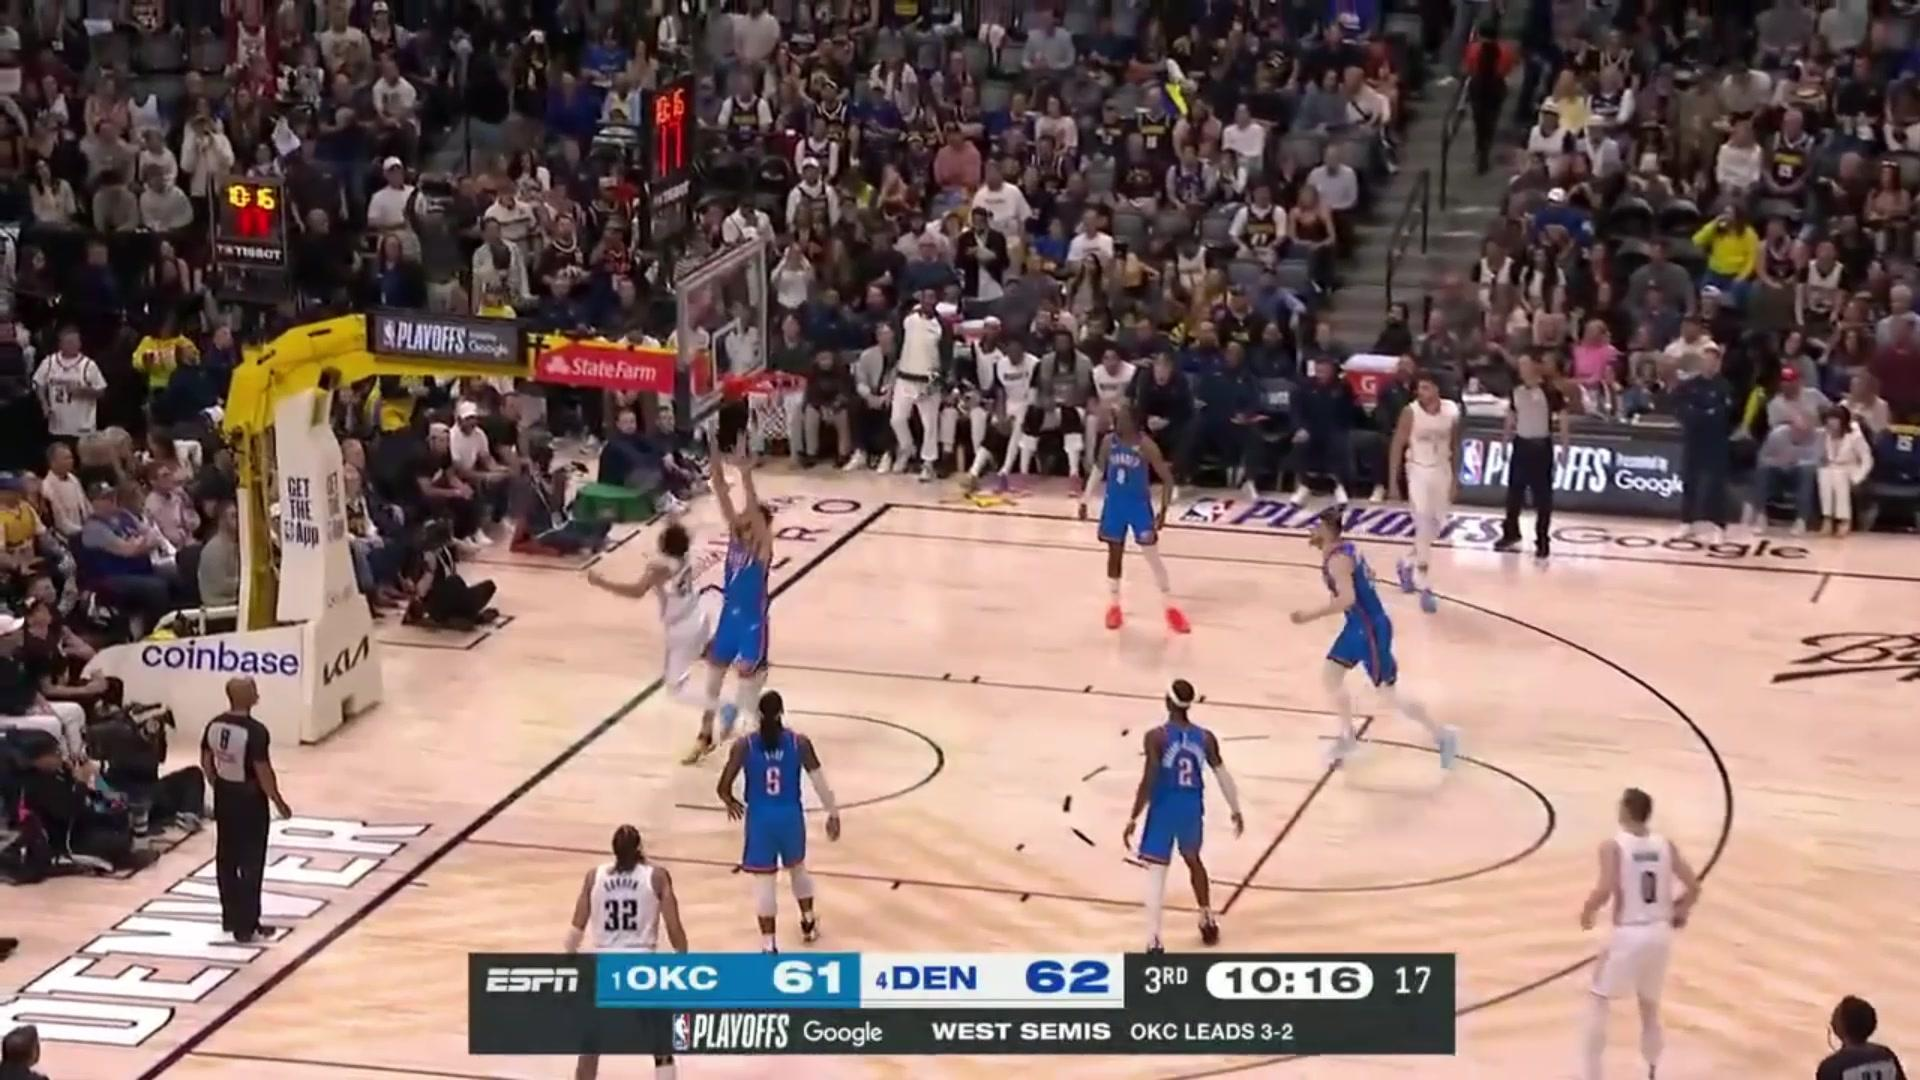foul: (597, 440, 796, 758)
